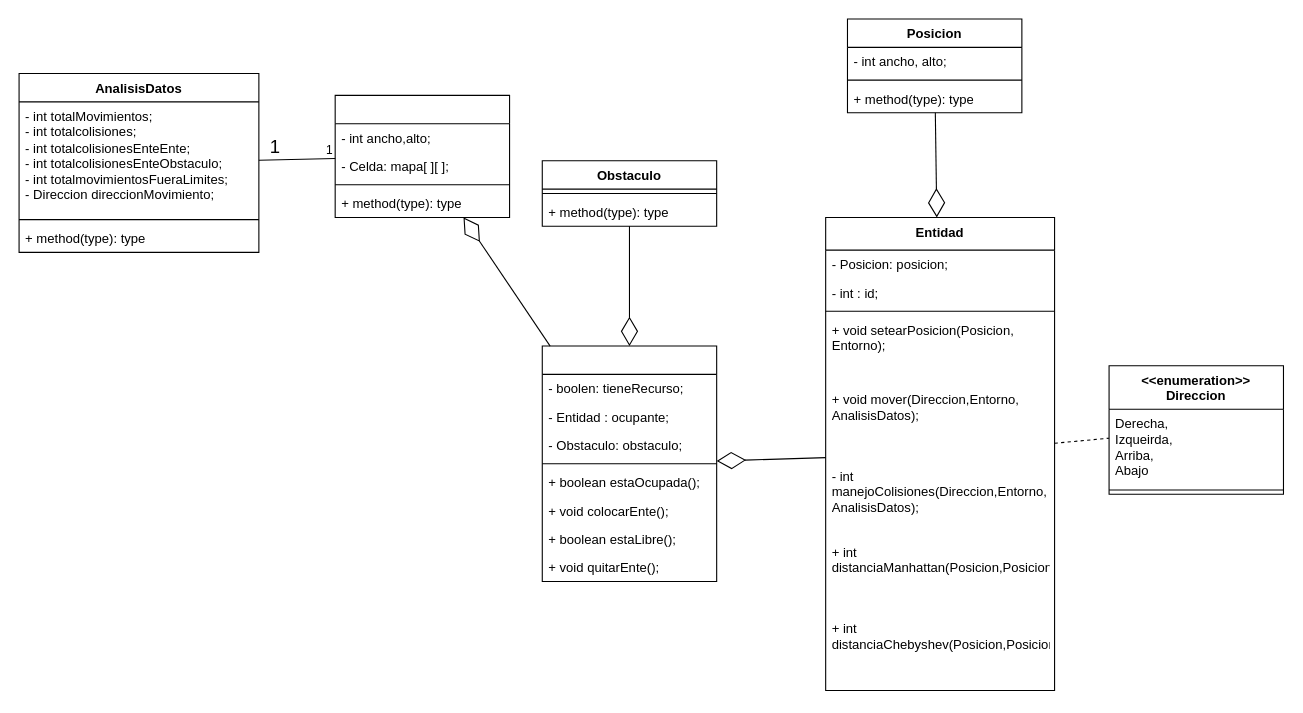
The diagram is 1303 pixels wide and 713 high, and some of its shapes have lost their labels. Each missing label, with the box of its shape:
Celda: (541, 345, 717, 582)
Entorno: (334, 94, 510, 217)
